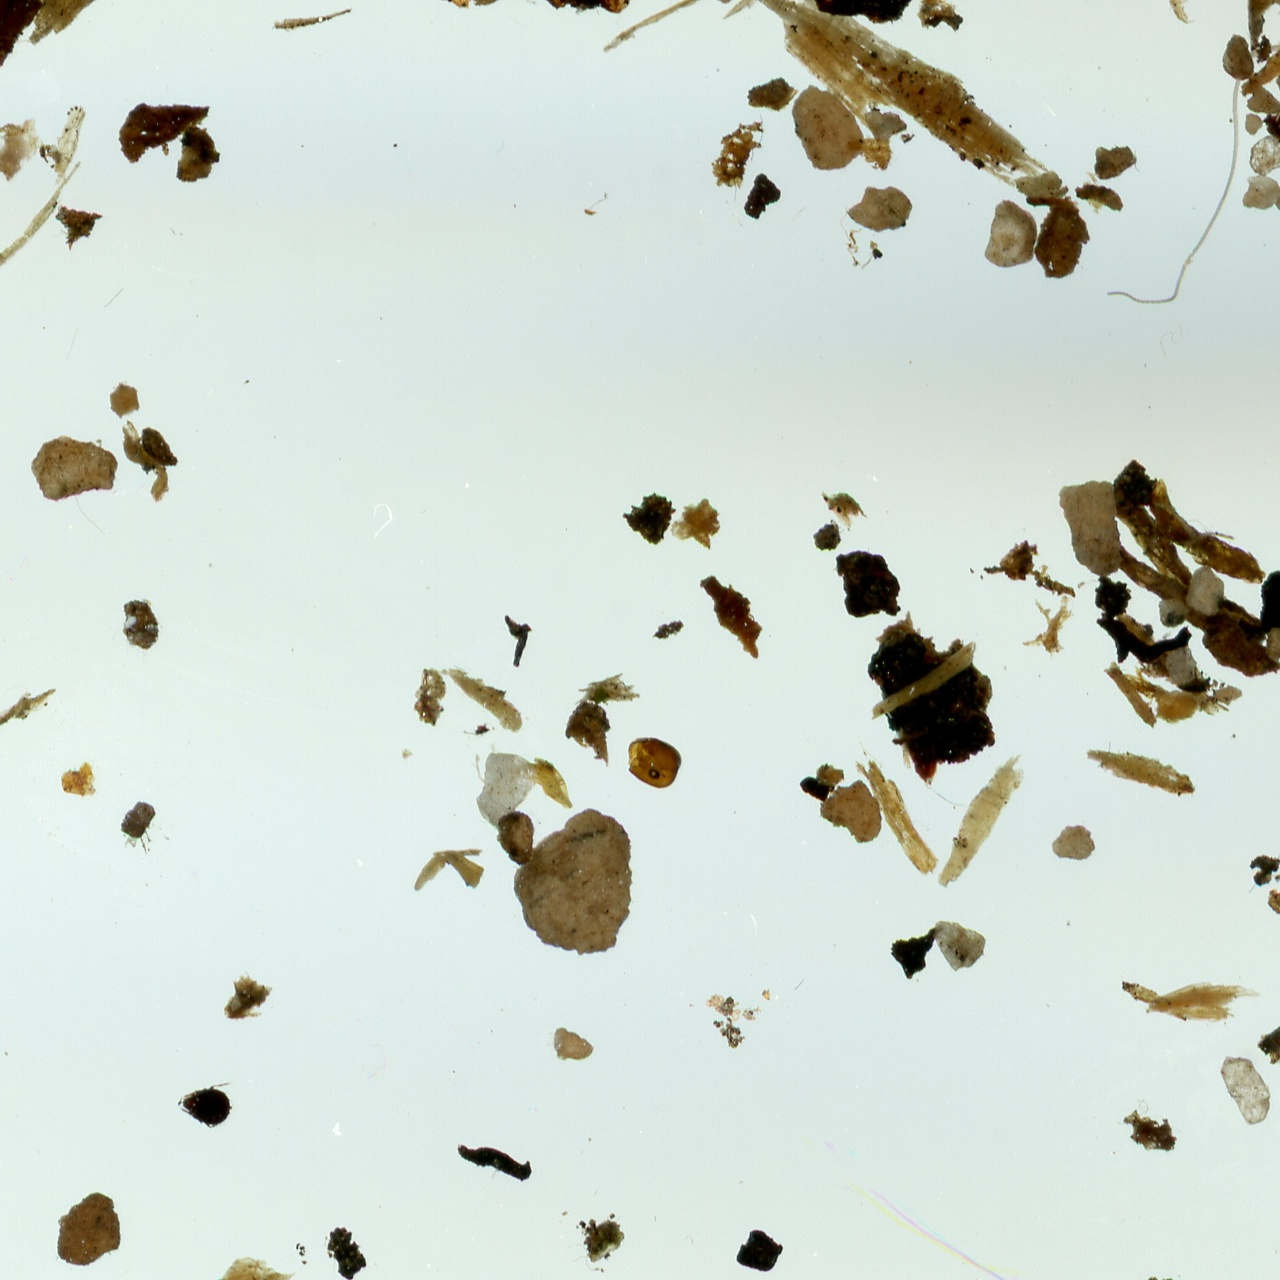arthropod: (1103, 40, 1280, 307), (175, 1078, 235, 1129)
